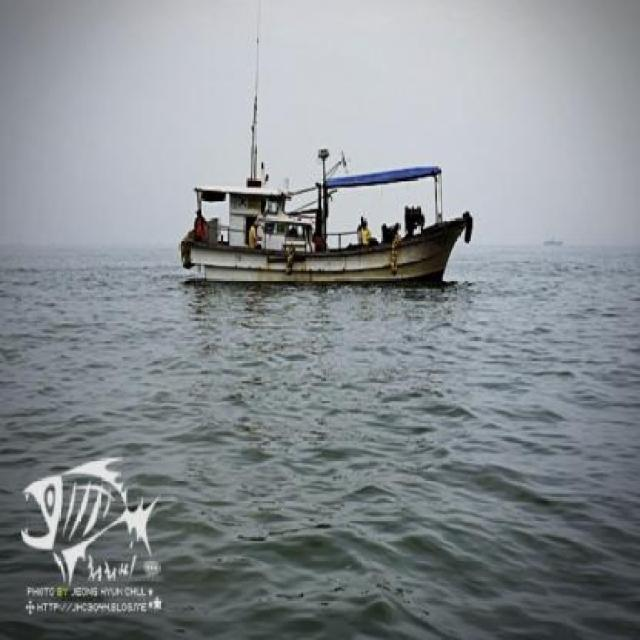fish-b: (166, 127, 480, 316)
